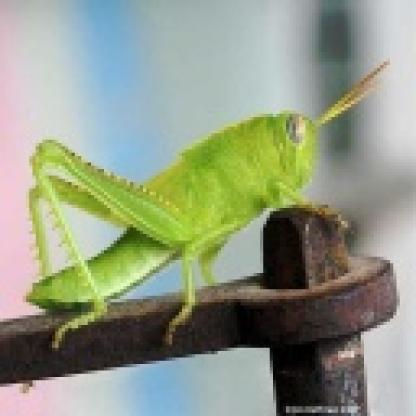grasshopper: (18, 79, 361, 324)
